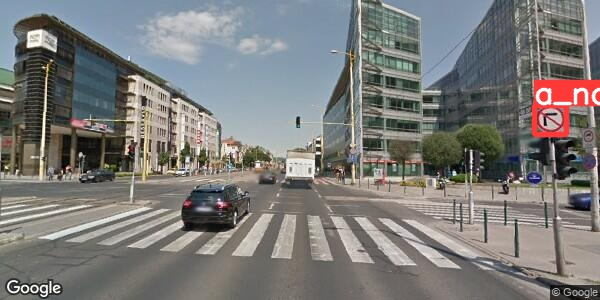a_no_turn: (535, 104, 566, 133)
